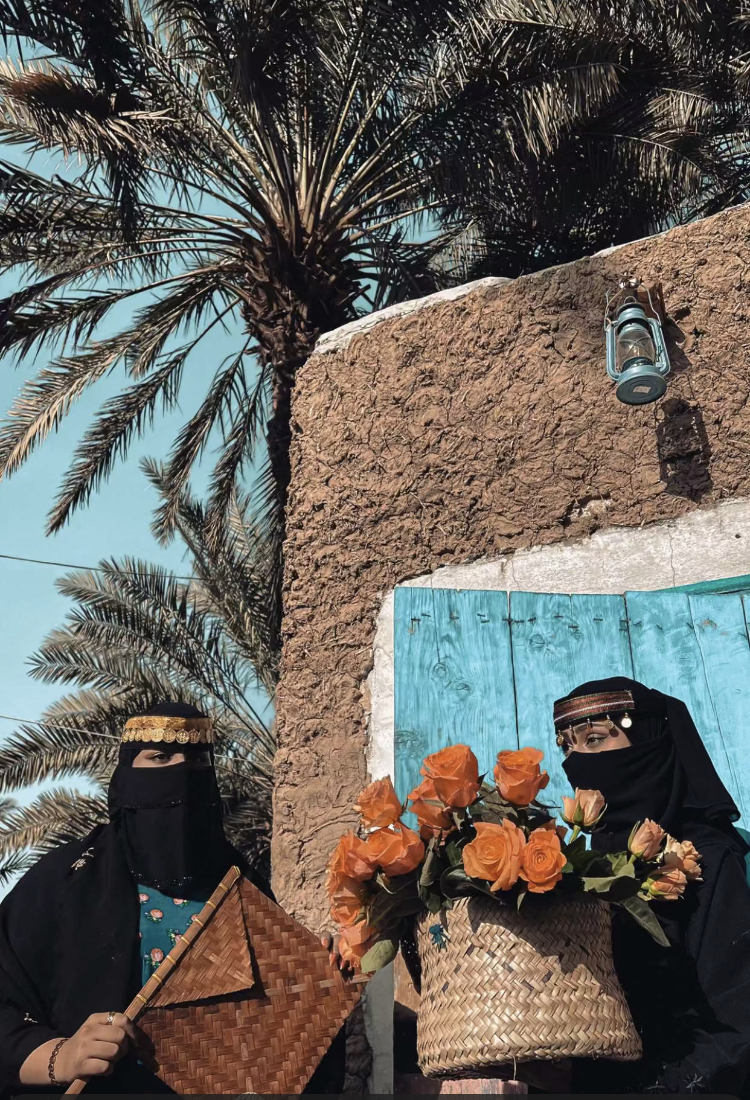Saudi_Founding_Day: (1, 698, 357, 1100), (549, 673, 750, 1100)
